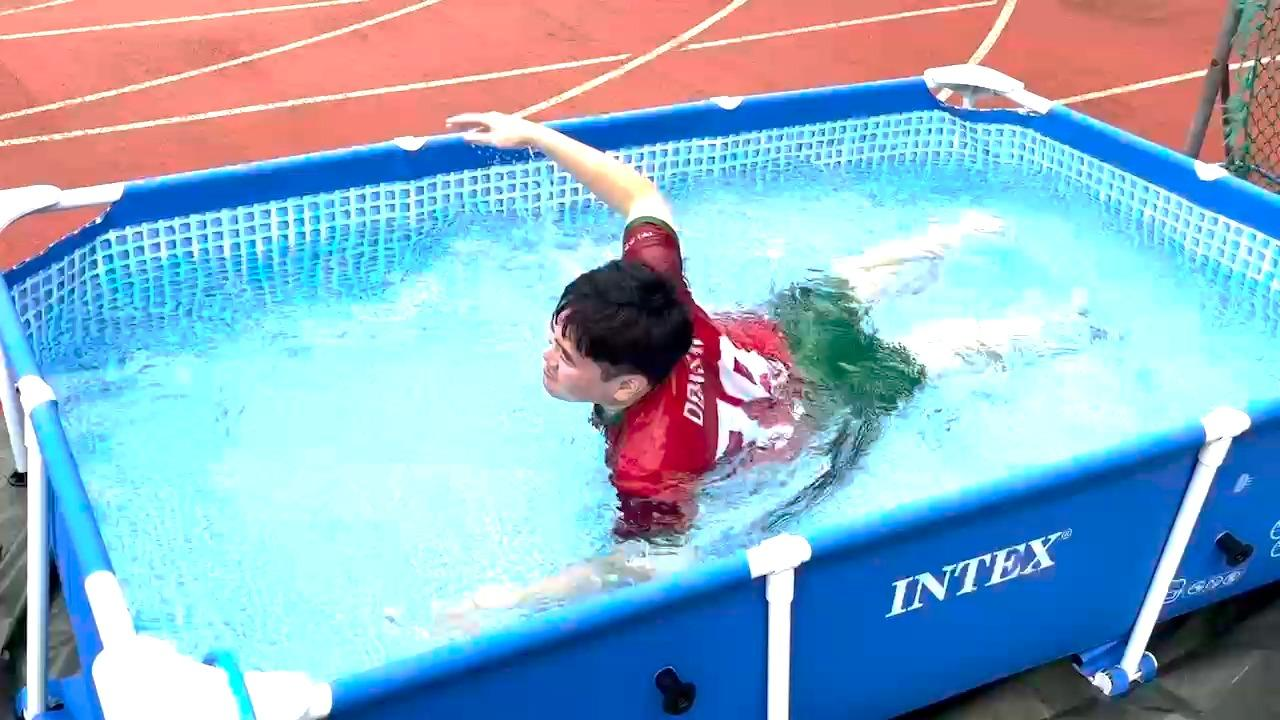Swimming: (296, 103, 1196, 630)
